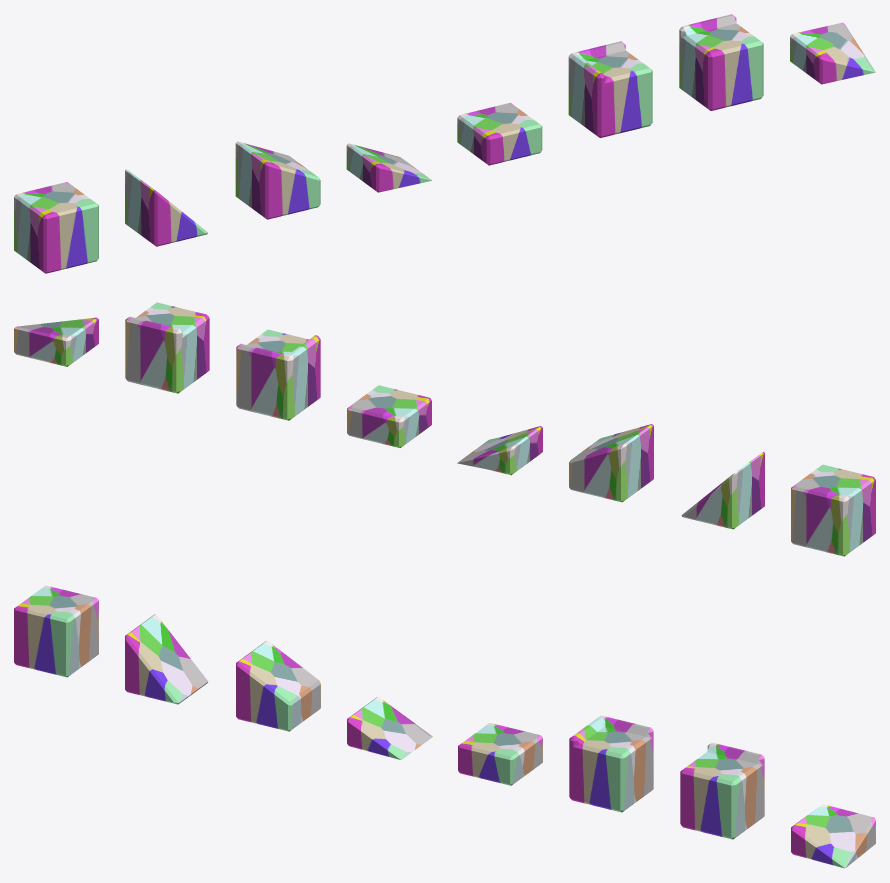
Rendered from world-blocks-v1.glb.
3 views of the same model, one above another, from view 1: azimuth 30°, elevation 25°; view 2: azimuth 150°, elevation 25°; view 3: azimuth 330°, elevation 25° (orthographic).
Parts seen in each view (by area): view 1: Block_Bande_50%, Block_Bande_25%, Block, Ramp_75%, Block_50%, pyramide, Ramp_100%, Ramp_25%; view 2: Block_Bande_50%, Block, Block_Bande_25%, Ramp_75%, Block_50%, Ramp_100%, pyramide, Ramp_25%; view 3: Block_Bande_50%, Block_Bande_25%, Block, Ramp_75%, Ramp_100%, pyramide, Block_50%, Ramp_25%.
Part boxes in pixels (left/top/right/bottom): Block_Bande_50%: left=568, top=41, right=652, bottom=137; Block_Bande_25%: left=679, top=14, right=763, bottom=110; Block: left=14, top=182, right=98, bottom=273; Ramp_75%: left=235, top=141, right=320, bottom=219; Block_50%: left=457, top=102, right=542, bottom=165; pyramide: left=790, top=22, right=875, bottom=84; Ramp_100%: left=125, top=169, right=207, bottom=246; Ramp_25%: left=346, top=143, right=431, bottom=192; Block_Bande_50%: left=236, top=329, right=320, bottom=420; Block: left=791, top=464, right=875, bottom=556; Block_Bande_25%: left=125, top=302, right=209, bottom=393; Ramp_75%: left=569, top=424, right=653, bottom=502; Block_50%: left=347, top=385, right=431, bottom=447; Ramp_100%: left=681, top=452, right=764, bottom=529; pyramide: left=14, top=317, right=98, bottom=366; Ramp_25%: left=457, top=426, right=542, bottom=475; Block_Bande_50%: left=569, top=715, right=653, bottom=812; Block_Bande_25%: left=680, top=742, right=764, bottom=839; Block: left=14, top=585, right=98, bottom=677; Ramp_75%: left=236, top=640, right=320, bottom=731; Ramp_100%: left=125, top=614, right=208, bottom=704; pyramide: left=791, top=804, right=875, bottom=868; Block_50%: left=458, top=723, right=542, bottom=785; Ramp_25%: left=347, top=696, right=432, bottom=759.
Size of what is drawn, in the model's own units: 30 by 2.2 by 2.
Materials: 8 (8 with a texture image).
